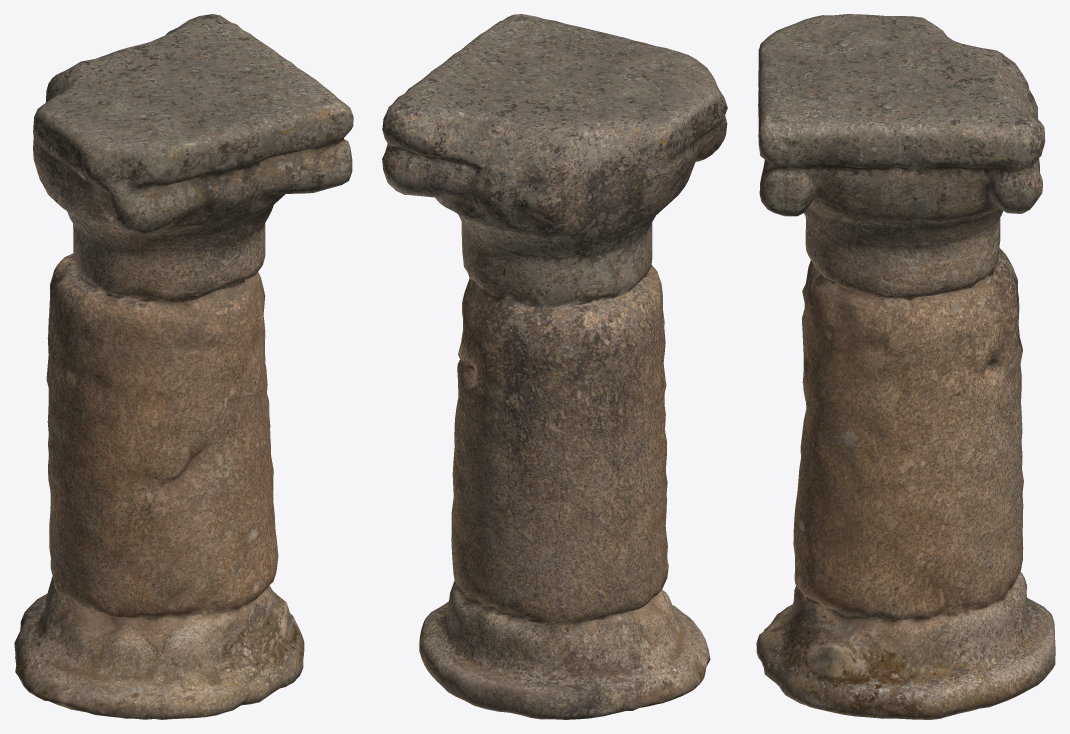
File: PillarFull.dae
The picture shows the model from 3 angles, left to right: view 1: azimuth 30°, elevation 25°; view 2: azimuth 150°, elevation 25°; view 3: azimuth 270°, elevation 25°; orthographic projection. The views are drawn at different scales.
Visible parts, largest first — view 1: Aset_stone_carved_M_tlovdfffa_LOD0; view 2: Aset_stone_carved_M_tlovdfffa_LOD0; view 3: Aset_stone_carved_M_tlovdfffa_LOD0.
Part boxes in pixels (x1,y1,x2,y2): Aset_stone_carved_M_tlovdfffa_LOD0: (14,14,353,719); Aset_stone_carved_M_tlovdfffa_LOD0: (382,14,727,719); Aset_stone_carved_M_tlovdfffa_LOD0: (756,14,1055,719).
Size of the model in its own units: 0.6446 by 0.6262 by 1.38.
1 material, 1 textured.
